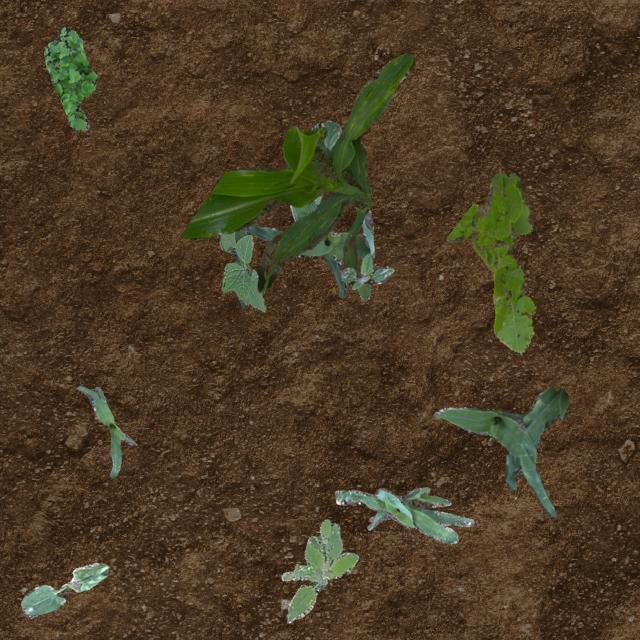crop: (180, 52, 413, 292), (432, 386, 568, 518), (244, 200, 374, 296), (333, 486, 472, 544), (76, 384, 136, 476), (290, 120, 340, 220), (20, 562, 109, 618), (218, 228, 264, 310)
weed: (446, 172, 534, 352), (280, 518, 358, 622), (42, 24, 96, 130), (340, 252, 392, 300)
